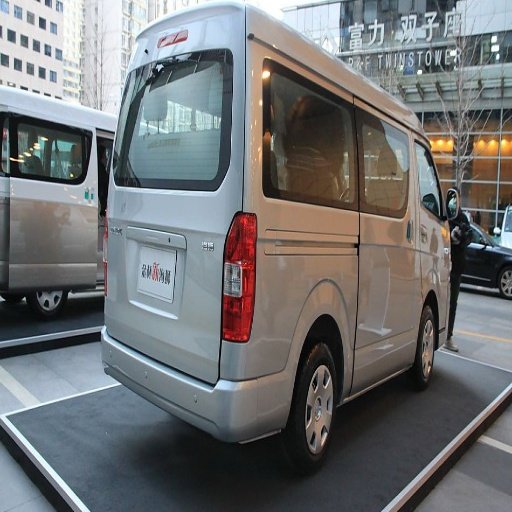back_bumper: (162, 368, 294, 442)
back_glass: (116, 89, 230, 188)
back_right_door: (275, 91, 331, 177)
trunk: (112, 198, 442, 379)
